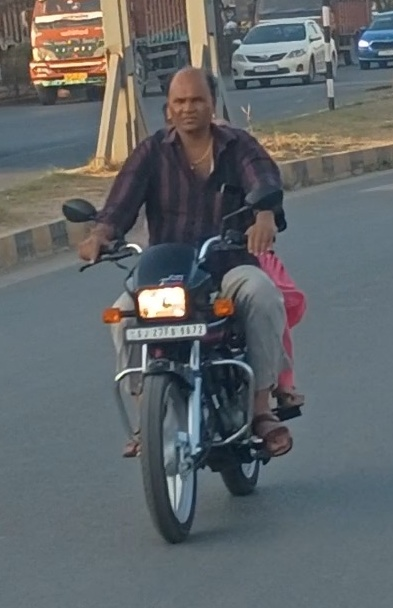BikeWithRider: (54, 60, 315, 550)
NoHelmet: (156, 61, 223, 139)
